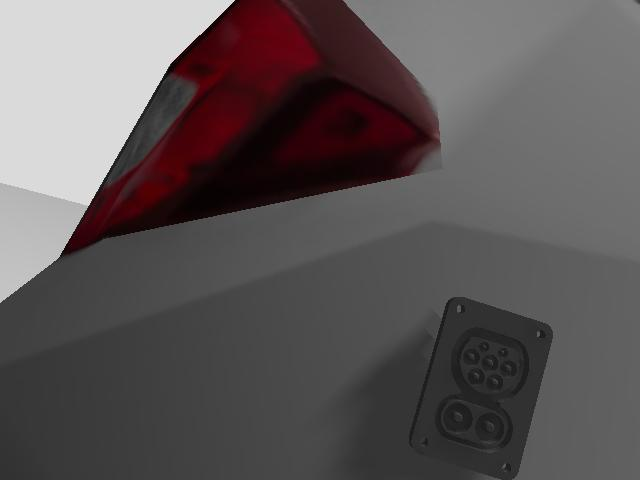EV-socket: (410, 297, 552, 479)
